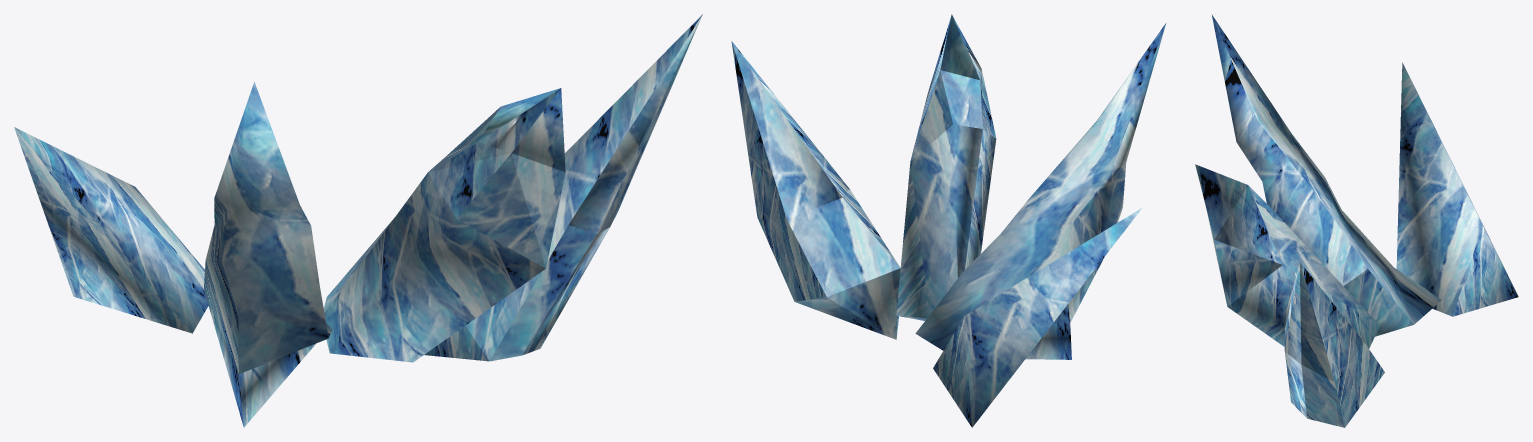
The model's file is rock_02.FBX.
The picture shows the model from 3 angles, left to right: view 1: azimuth 30°, elevation 25°; view 2: azimuth 150°, elevation 25°; view 3: azimuth 270°, elevation 25°; orthographic projection. The views are drawn at different scales.
Parts seen in each view (by area): view 1: Object107; view 2: Object107; view 3: Object107.
Part boxes in pixels (x1,y1,x2,y2): Object107: (14, 14, 702, 427); Object107: (731, 14, 1166, 427); Object107: (1195, 14, 1518, 427).
Bounding box in the file's own units: 353 × 224 × 229.
Materials: 1 (1 with a texture image).
